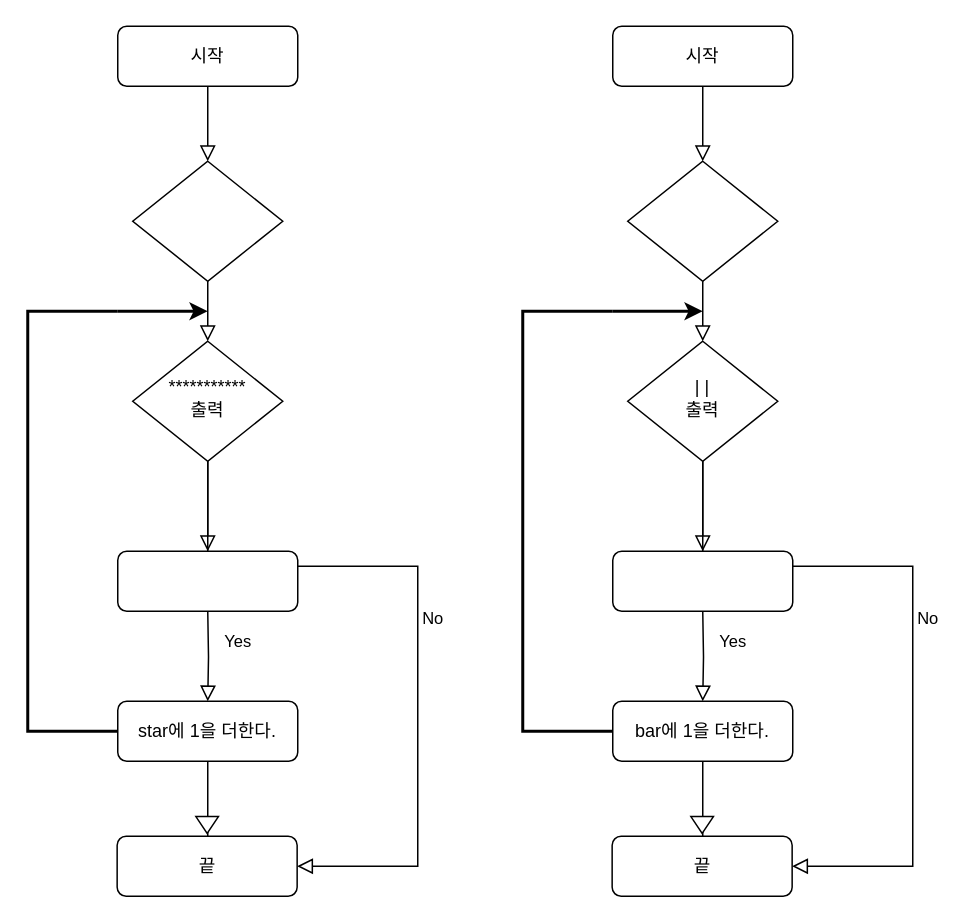
Some shapes in this 963 by 923 pixel diagram are drawn without their labels. Here are the shapes that lost their labels. From the top down, the centre of each, then its label:
At point 207,220: "*********** star : 1".
At point 702,220: "| | bar : 1".
At point 207,580: "star이 8보다 작은가?".
At point 702,580: "bar이 4보다 작은가?".
